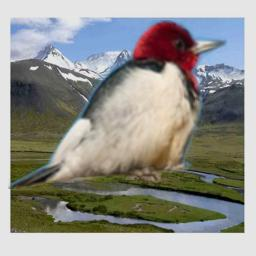Woodpecker: (8, 20, 227, 189)
